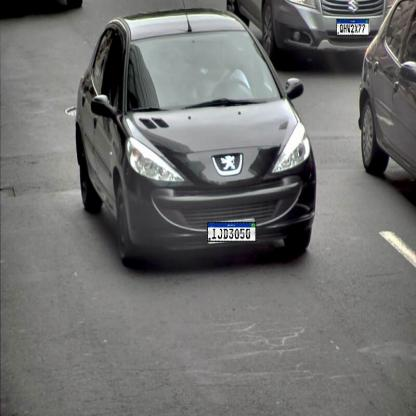PlacaM: (207, 222, 256, 242), (336, 19, 370, 35)
